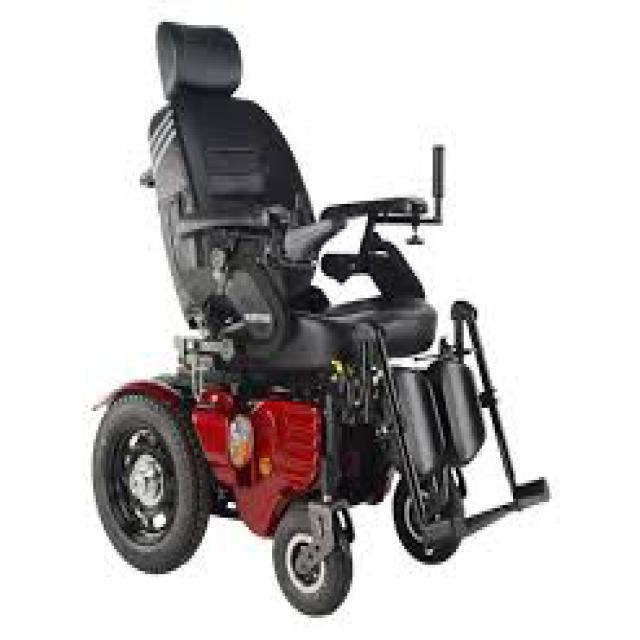wheelchair: (83, 9, 573, 634)
